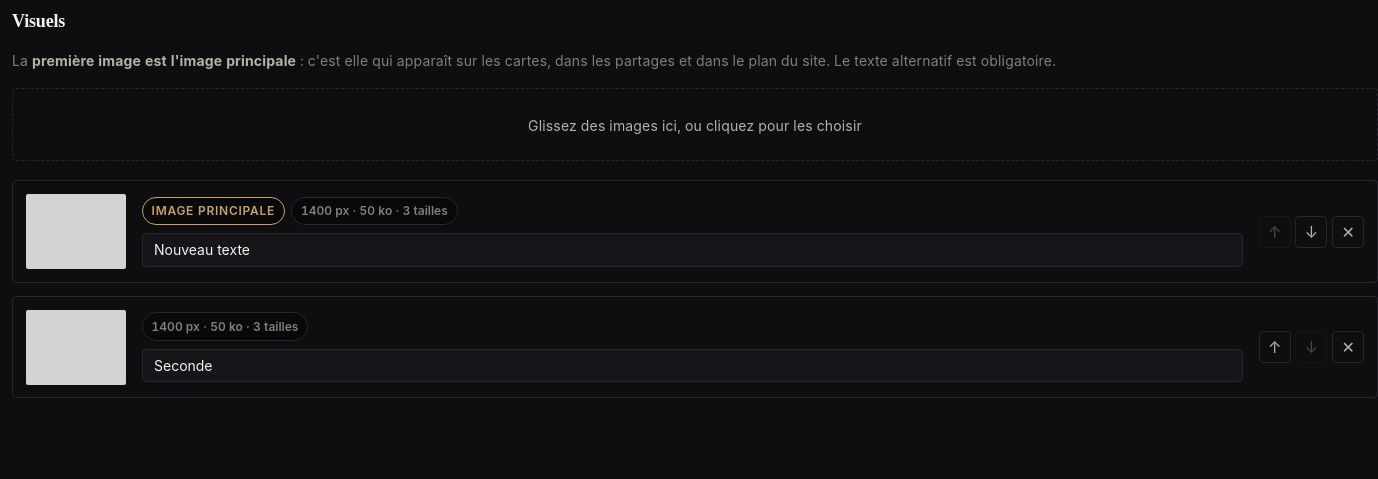
Test: AdminMediaGallery (story 7.5b) › relays the server's refusal instead of failing silently
Click the 2nd button "↑": click(1275, 347) [1259, 331, 1291, 363]
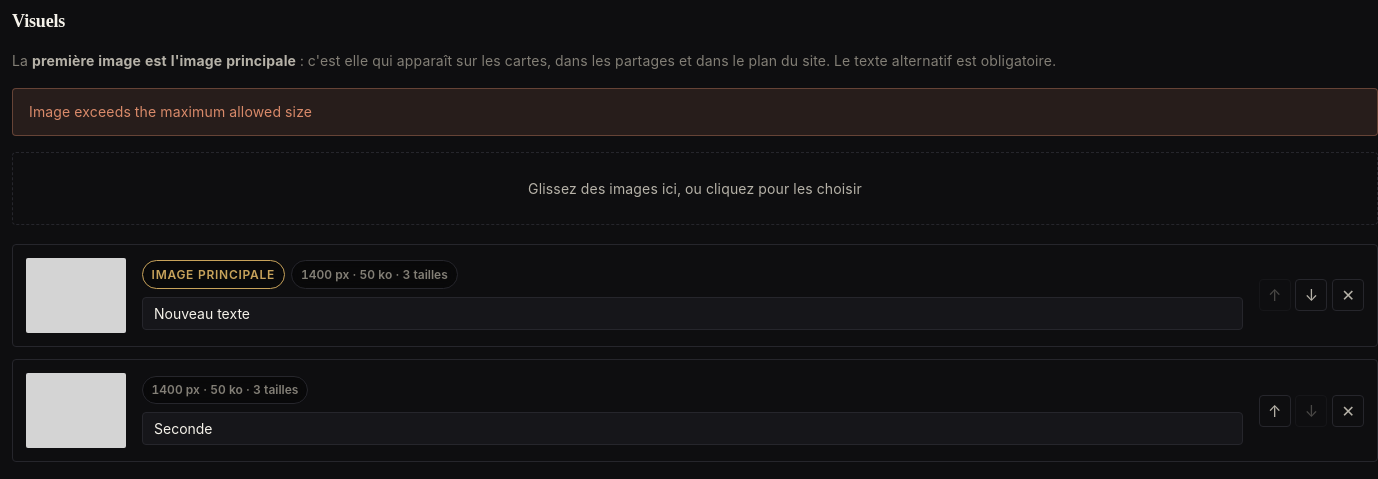
Check: the message with class "alert" shows "maximum allowed size", box [29, 103, 312, 120]
